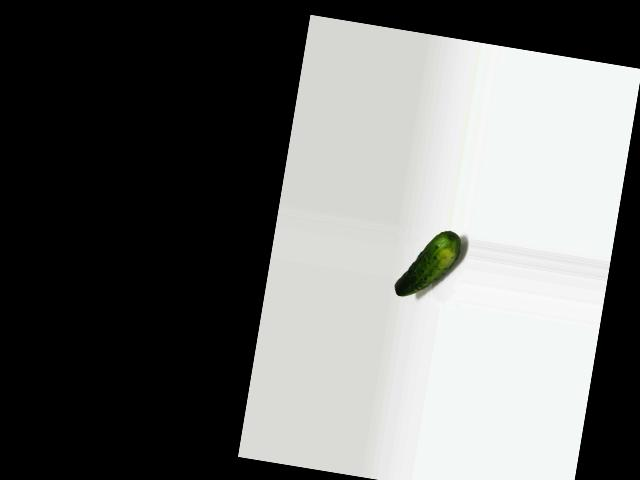cucumber: (393, 224, 462, 304)
